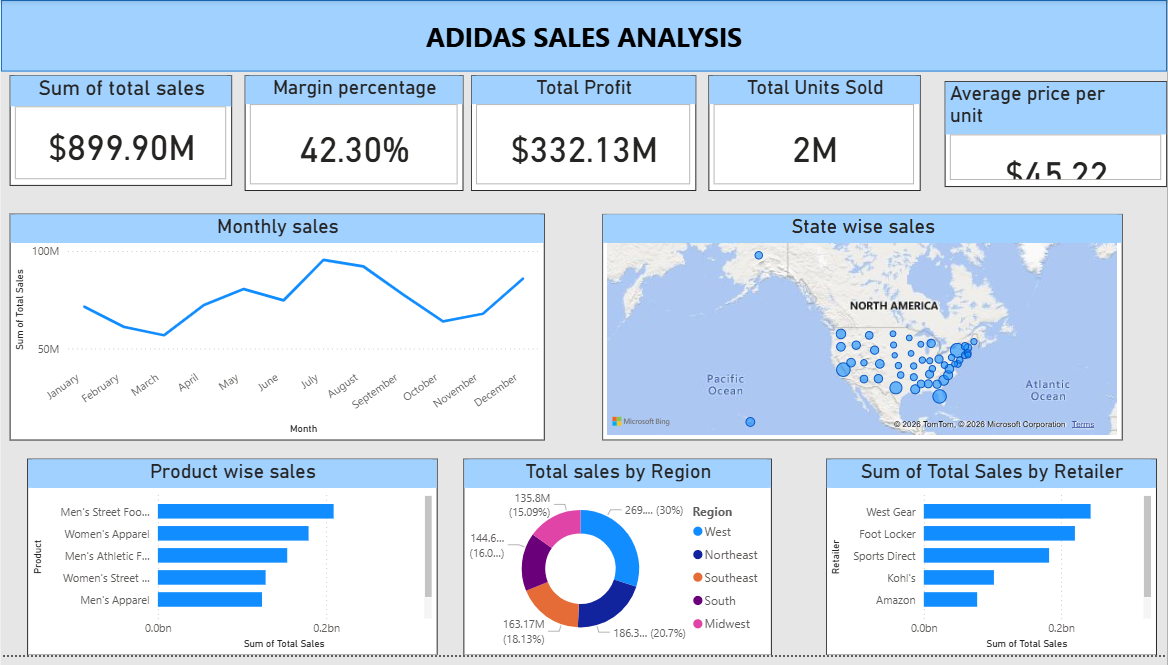

What the dashboard file says about the page in this screenshot:
{"tool":"powerbi","page":{"name":"Page 1","canvas":[1280,720],"ordinal":0},"visuals":[{"type":"cardVisual","title":"Sum of total sales","fields":{"Data":["Sum(Data Sales Adidas.Total Sales)"]},"box":[10,82.9,244.3,121.4],"z":0},{"type":"cardVisual","title":"Margin percentage","fields":{"Data":["Avg(Data Sales Adidas.Operating Margin)"]},"box":[267.1,82.9,240,127.1],"z":1},{"type":"cardVisual","title":"Total Profit","fields":{"Data":["Sum(Data Sales Adidas.Operating Profit)"]},"box":[515.7,82.9,247.1,127.1],"z":2},{"type":"cardVisual","title":"Total Units Sold","fields":{"Data":["Sum(Data Sales Adidas.Units Sold)"]},"box":[777.1,82.9,232.9,127.1],"z":3},{"type":"cardVisual","title":"Average price per unit","fields":{"Data":["Avg(Data Sales Adidas.Price per Unit)"]},"box":[1035.7,88.6,244.3,115.7],"z":4},{"type":"lineChart","title":"Monthly sales","fields":{"Y":["Sum(Data Sales Adidas.Total Sales)"],"Category":["Data Sales Adidas.Invoice Date.Variation.Date Hierarchy.Month"]},"box":[10,234.3,587.1,248.6],"z":5},{"type":"map","title":"State wise sales","fields":{"Category":["Data Sales Adidas.State"],"Size":["Sum(Data Sales Adidas.Total Sales)"]},"box":[660,234.3,571.4,248.6],"z":6},{"type":"donutChart","title":"Total sales by Region","fields":{"Category":["Data Sales Adidas.Region"],"Y":["Sum(Data Sales Adidas.Total Sales)"]},"box":[507.1,504.3,338.6,215.7],"z":7},{"type":"barChart","title":"Product wise sales","fields":{"Y":["Sum(Data Sales Adidas.Total Sales)"],"Category":["Data Sales Adidas.Product"]},"box":[28.6,504.3,450,215.7],"z":8},{"type":"barChart","fields":{"Y":["Sum(Data Sales Adidas.Total Sales)"],"Category":["Data Sales Adidas.Retailer"]},"box":[905.7,504.3,362.9,215.7],"z":9},{"type":"shape","box":[0,0,1280,78.6],"z":10}]}

Visuals, with their boxes in screenshot pixels (x1, y1, x2, y2), scaled from the page's 1280x720 canvas onto the 1168x665 screenshot:
"Sum of total sales" cardVisual: <box>9,77,232,189</box>
"Margin percentage" cardVisual: <box>244,77,463,194</box>
"Total Profit" cardVisual: <box>471,77,696,194</box>
"Total Units Sold" cardVisual: <box>709,77,922,194</box>
"Average price per unit" cardVisual: <box>945,82,1167,189</box>
"Monthly sales" lineChart: <box>9,216,545,446</box>
"State wise sales" map: <box>602,216,1124,446</box>
"Total sales by Region" donutChart: <box>463,466,772,664</box>
"Product wise sales" barChart: <box>26,466,437,664</box>
barChart - Sum(Data Sales Adidas.Total Sales) x Data Sales Adidas.Retailer: <box>826,466,1158,664</box>
shape: <box>0,0,1167,73</box>
